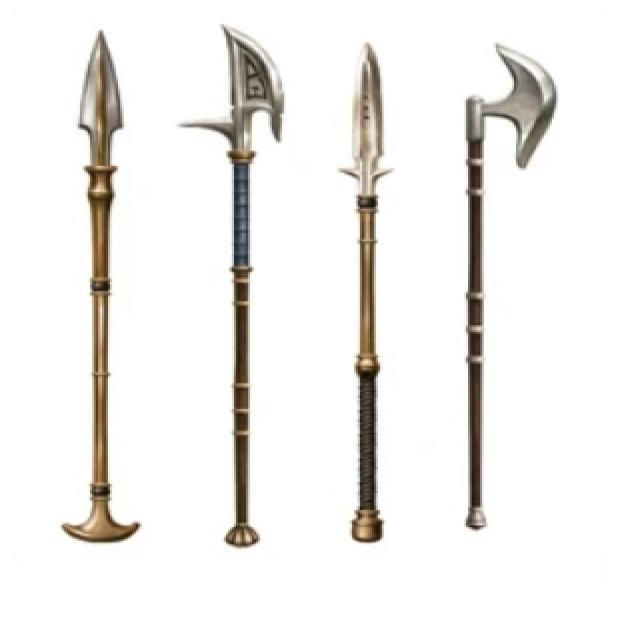spear: (176, 20, 297, 557), (452, 38, 568, 556), (50, 12, 144, 548), (332, 31, 384, 554)
